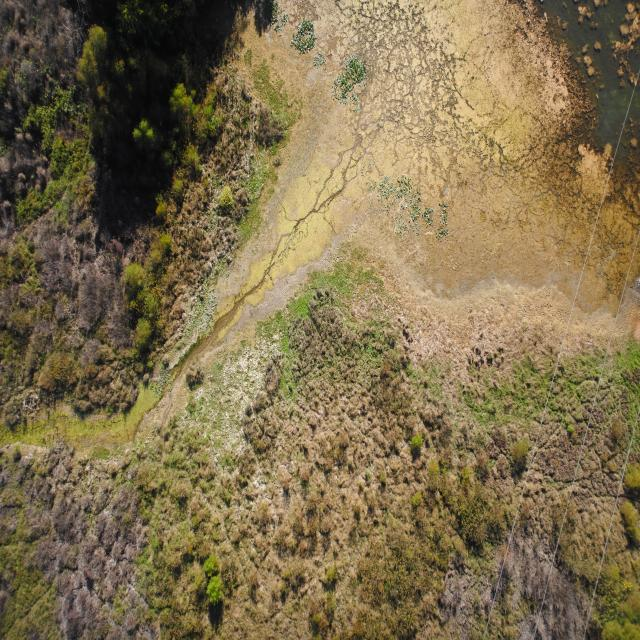Area of Interest: (74, 35, 129, 121)
